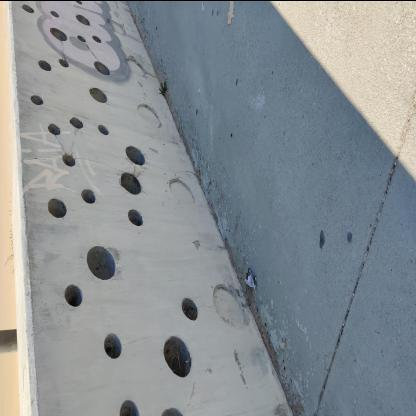karton: (228, 2, 236, 26)
plastik: (246, 268, 258, 290)
